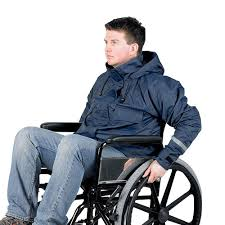person: (72, 12, 193, 135)
wheelchair: (86, 137, 208, 222)
